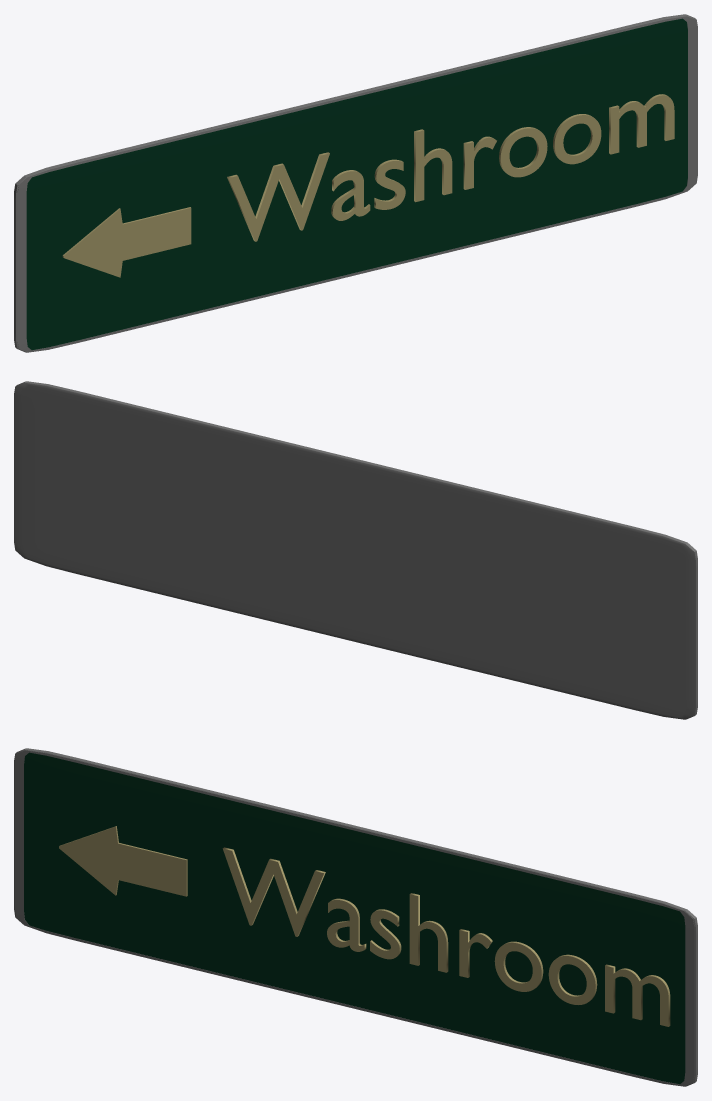
Rendered from washroom Signs.fbx.
The picture shows the model from 3 angles, top to bottom: view 1: azimuth 30°, elevation 25°; view 2: azimuth 150°, elevation 25°; view 3: azimuth 330°, elevation 25°; orthographic projection.
Visible parts, largest first — view 1: Cube.001, Text.003, Cube.003; view 2: Cube.001; view 3: Cube.001, Text.003, Cube.003.
Boxes of the visible parts, bbox=[...] form: Cube.001: bbox=[14, 14, 697, 352]; Text.003: bbox=[227, 94, 674, 241]; Cube.003: bbox=[62, 207, 191, 277]; Cube.001: bbox=[14, 381, 697, 719]; Cube.001: bbox=[14, 748, 697, 1086]; Text.003: bbox=[222, 847, 670, 1026]; Cube.003: bbox=[59, 826, 187, 896].
Size of the model in its own units: 1504 by 382 by 16.14.
